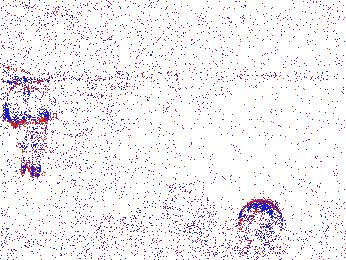flame jellyfish: (5, 81, 56, 178), (37, 201, 88, 253), (238, 200, 283, 245)
